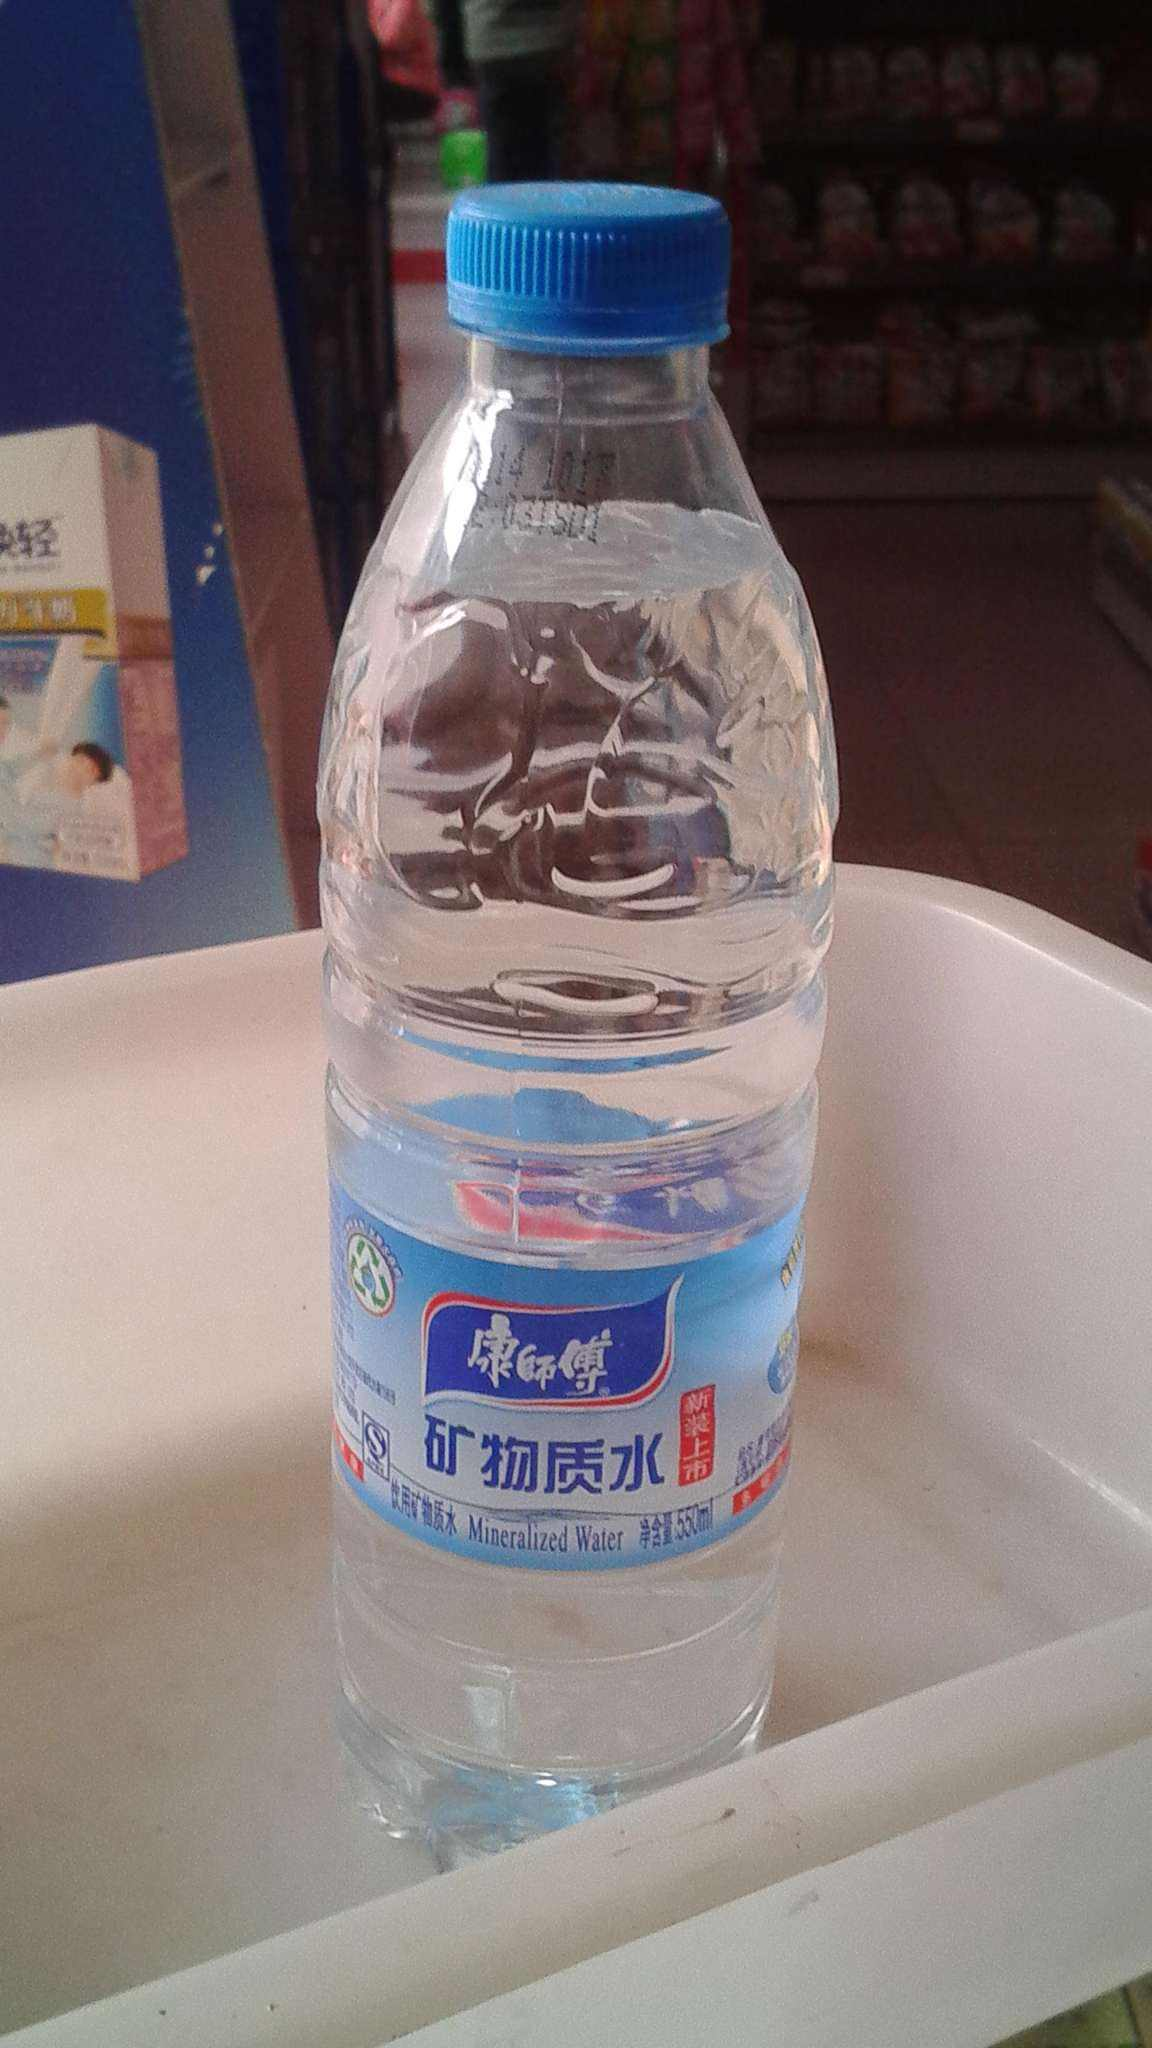amwater: (269, 86, 904, 1943)
